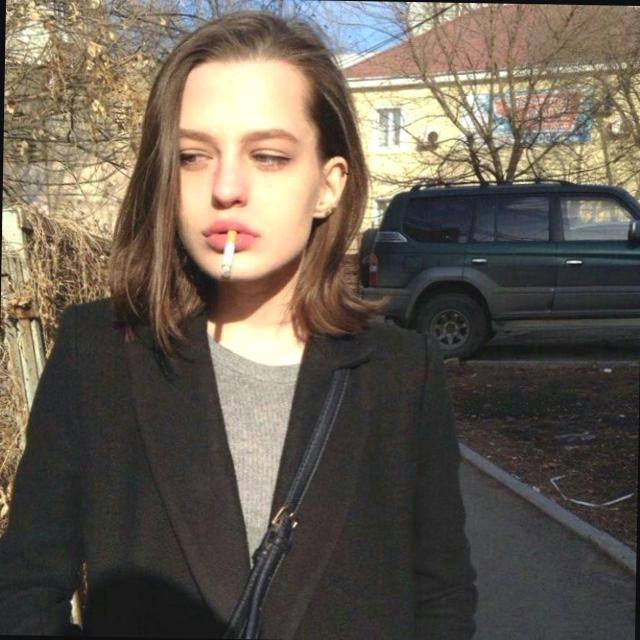cigarette: (218, 222, 242, 288)
